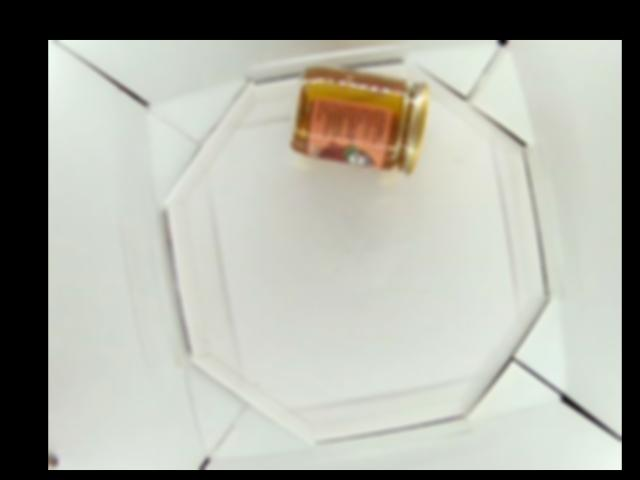Bottle: (290, 63, 430, 176)
